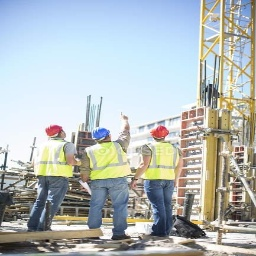helmet: (148, 124, 171, 141), (89, 126, 112, 143), (40, 123, 63, 138)
person: (82, 125, 138, 243), (22, 122, 81, 232), (136, 123, 180, 238)
vest: (83, 140, 134, 184), (34, 140, 72, 179), (144, 141, 180, 182)
